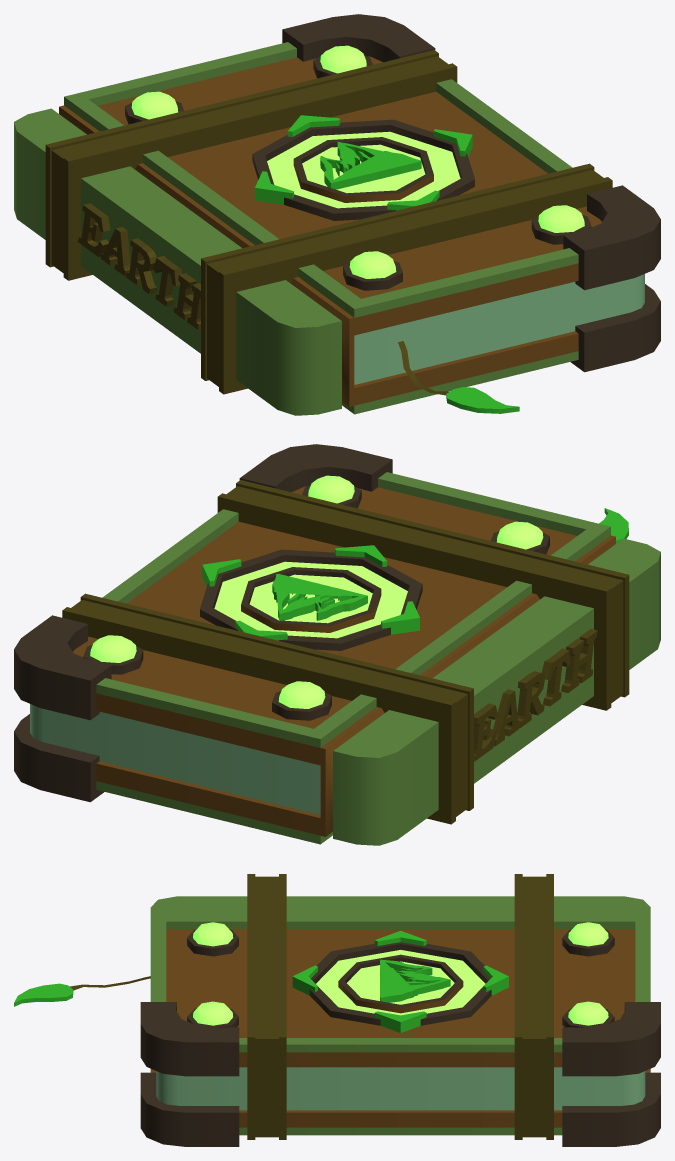
Rendered from Earth book.fbx.
3 renders of one model, top to bottom at view 1: azimuth 30°, elevation 25°; view 2: azimuth 150°, elevation 25°; view 3: azimuth 270°, elevation 25°, orthographic. The views are drawn at different scales.
Visible parts, largest first — view 1: Earth book, Earth belt, Earth gems, Earth text, Earth icon, Earth bookmark; view 2: Earth book, Earth belt, Earth gems, Earth text, Earth icon; view 3: Earth book, Earth belt, Earth gems, Earth icon, Earth bookmark.
Part boxes in pixels (x1,y1,x2,y2): Earth book: [14, 14, 660, 415]; Earth belt: [45, 50, 612, 394]; Earth gems: [125, 45, 591, 290]; Earth text: [78, 203, 200, 329]; Earth icon: [320, 141, 421, 189]; Earth bookmark: [398, 341, 519, 413]; Earth book: [14, 444, 660, 845]; Earth belt: [62, 480, 629, 824]; Earth gems: [83, 475, 549, 720]; Earth text: [474, 629, 597, 761]; Earth icon: [272, 573, 367, 620]; Earth book: [140, 896, 660, 1146]; Earth belt: [247, 874, 553, 1139]; Earth gems: [187, 922, 614, 1027]; Earth icon: [380, 959, 450, 1002]; Earth bookmark: [14, 976, 150, 1006].
Bounding box in the file's own units: 0.2947 × 0.0907 × 0.4864.
